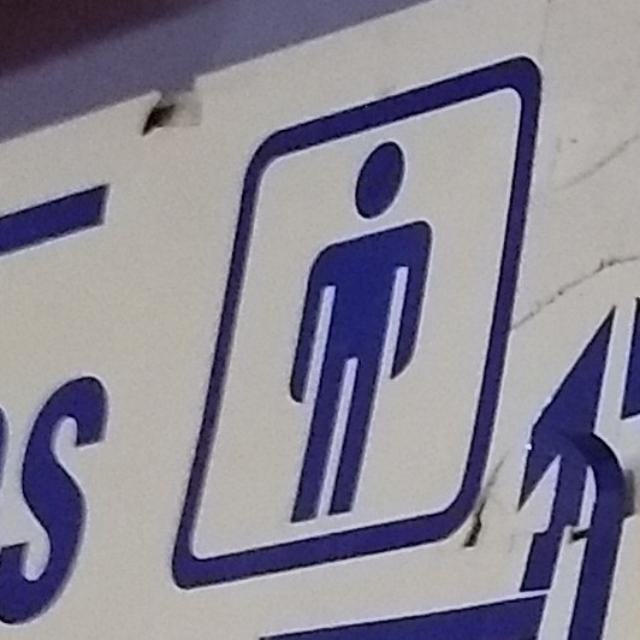wc nam: (176, 59, 539, 587)
